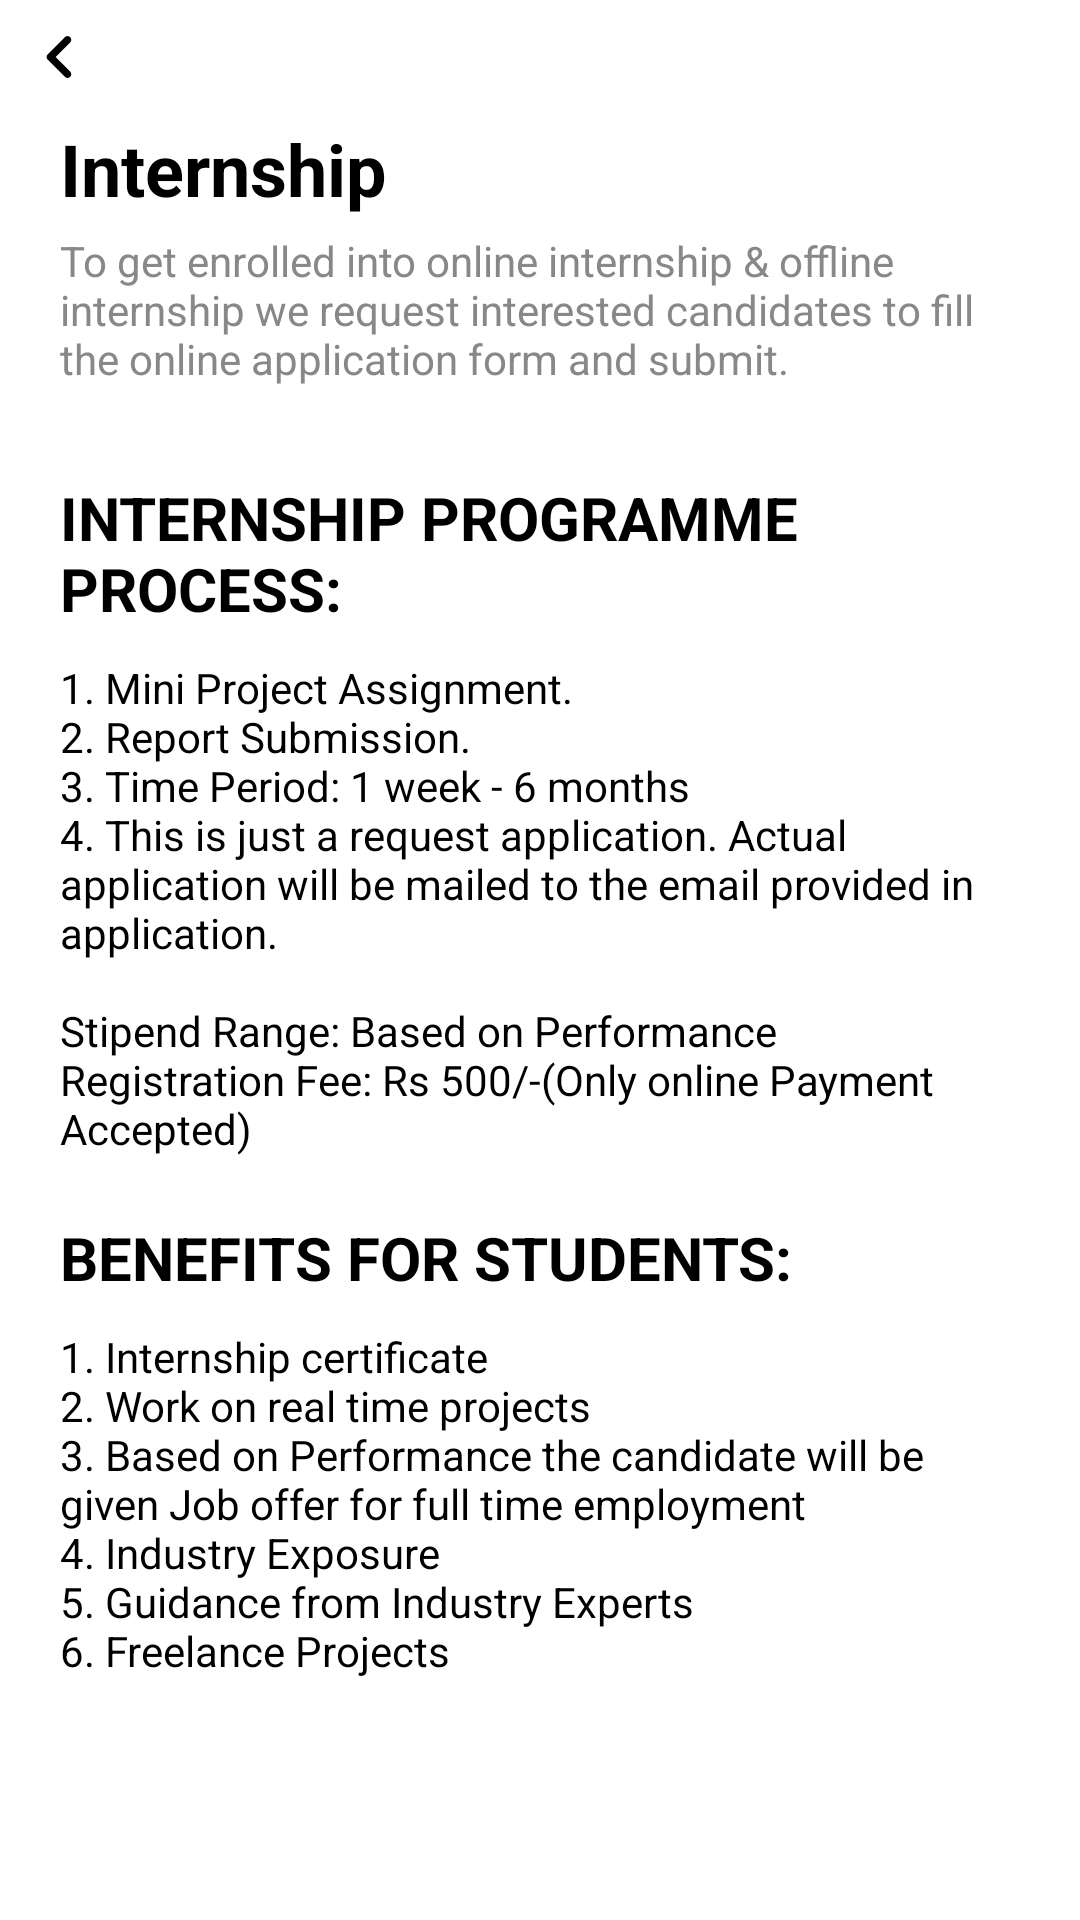

Point at icon controls on the screen. Image size 1080px×1920px, points as (x,y).
left: (59,57)
